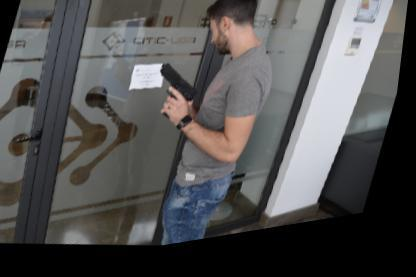pistol: (148, 62, 207, 130)
